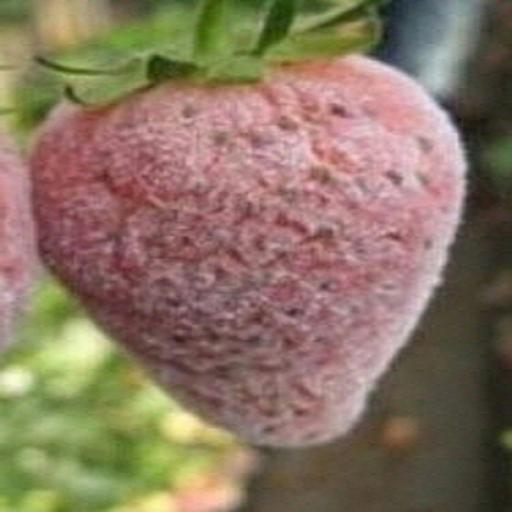Powdery Mildew Fruit: (20, 41, 467, 450)
